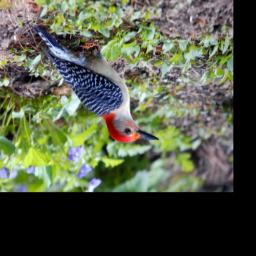Woodpecker: (32, 25, 159, 143)
